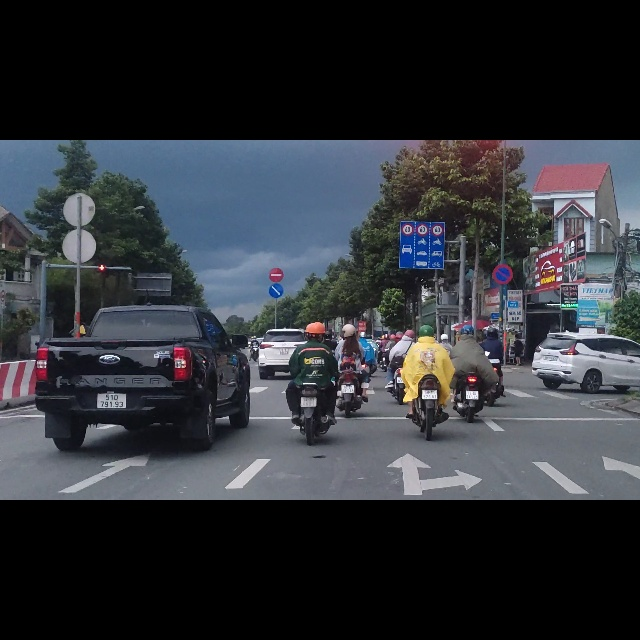bien_cam: (398, 140, 448, 233), (492, 219, 512, 257), (269, 226, 284, 254), (269, 254, 284, 281)
